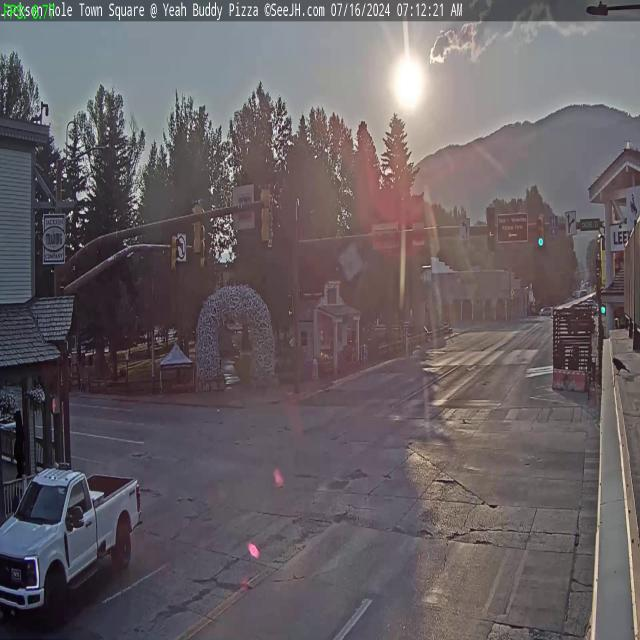pickup: (0, 455, 145, 622)
traffic light: (260, 184, 273, 246), (190, 198, 203, 255), (487, 206, 496, 250), (172, 224, 181, 266), (536, 214, 545, 248)
